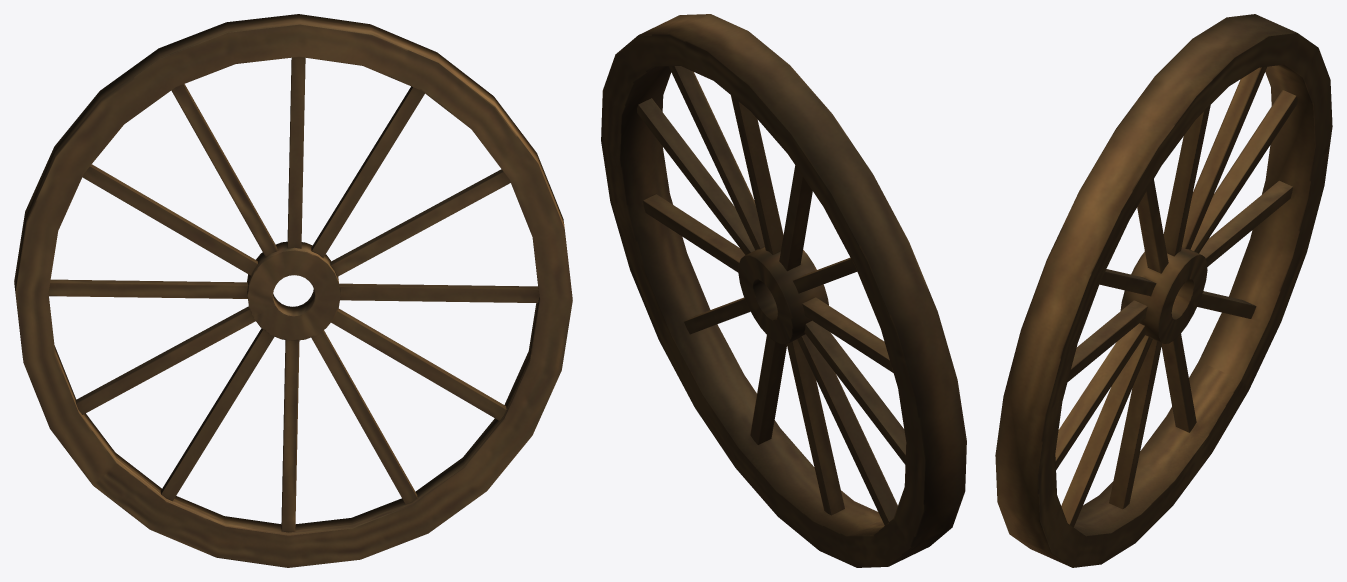
File: cartwheel.glb
The picture shows the model from 3 angles, left to right: view 1: azimuth 30°, elevation 25°; view 2: azimuth 150°, elevation 25°; view 3: azimuth 270°, elevation 25°; orthographic projection. The views are drawn at different scales.
Visible parts, largest first — view 1: cartwheel; view 2: cartwheel; view 3: cartwheel.
Part boxes in pixels (x1,y1,x2,y2): cartwheel: (14,14,572,567); cartwheel: (601,14,966,567); cartwheel: (995,14,1332,567).
Size of what is drawn, in the model's own units: 1.08 by 1.17 by 0.6841.
1 material, 1 textured.
